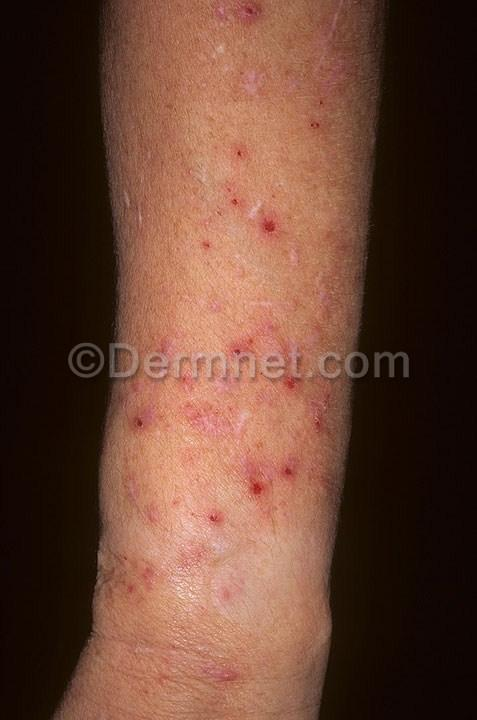Eczema: (180, 173, 293, 292), (214, 317, 315, 411), (119, 310, 208, 399), (217, 435, 293, 526), (90, 545, 169, 623), (206, 42, 282, 113), (184, 387, 246, 473), (219, 549, 277, 628), (180, 491, 243, 561), (280, 371, 342, 438), (204, 112, 270, 174), (292, 87, 351, 155), (105, 401, 169, 463), (302, 264, 358, 331), (169, 536, 231, 594), (124, 473, 173, 545), (206, 0, 273, 52), (132, 635, 189, 696), (202, 653, 261, 703), (300, 212, 352, 265), (298, 463, 344, 519)
